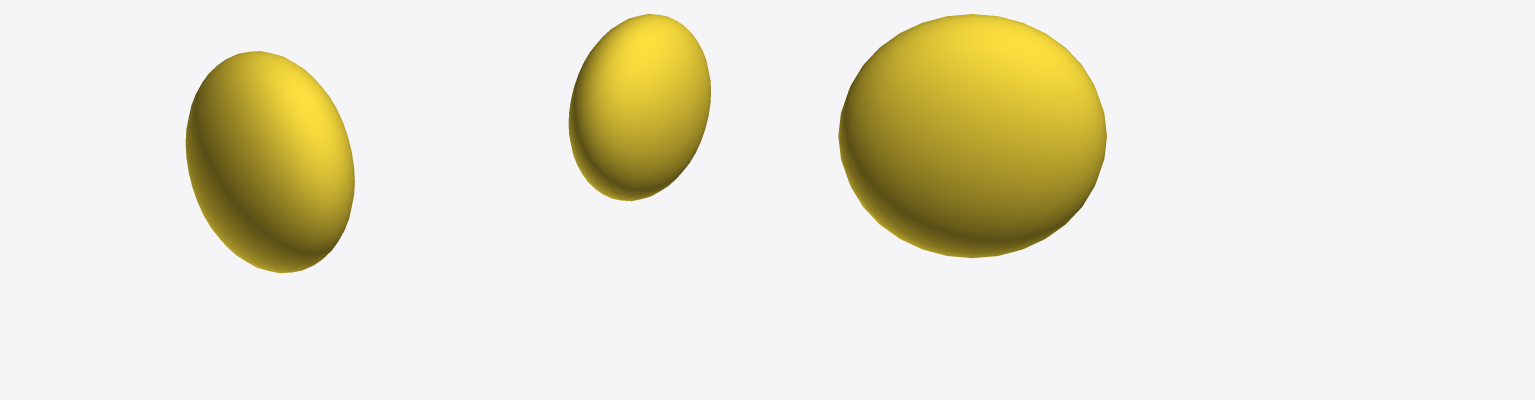
The picture shows the model from 3 angles, left to right: view 1: azimuth 30°, elevation 25°; view 2: azimuth 150°, elevation 25°; view 3: azimuth 270°, elevation 25°; orthographic projection. The views are drawn at different scales.
Parts seen in each view (by area): view 1: node_ 1_-71784; view 2: node_ 1_-71784; view 3: node_ 1_-71784.
Boxes of the visible parts, x1,y1,x2,y2 form: node_ 1_-71784: [185, 51, 354, 273]; node_ 1_-71784: [568, 14, 710, 201]; node_ 1_-71784: [838, 14, 1106, 258].
Size of the model in its own units: 0.6976 by 1.44 by 2.77.
